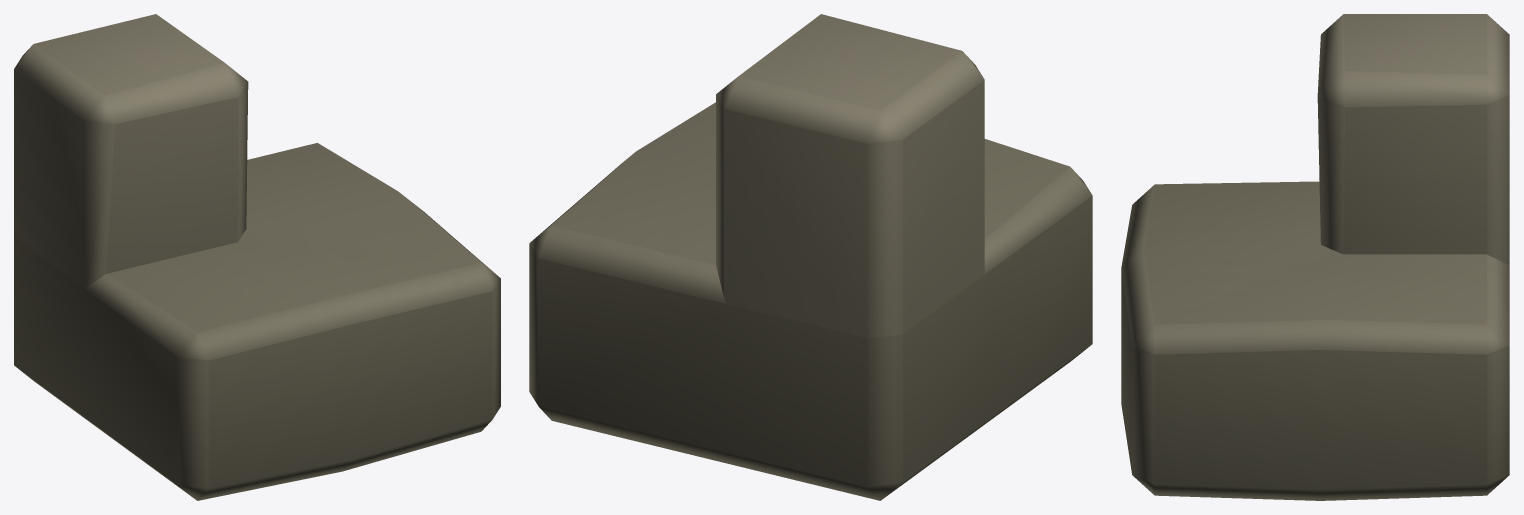
File: orc_stair_corner_conv_shade_5.fbx
3 renders of one model, left to right at view 1: azimuth 30°, elevation 25°; view 2: azimuth 150°, elevation 25°; view 3: azimuth 270°, elevation 25°, orthographic. The views are drawn at different scales.
Visible parts, largest first — view 1: orc_stair_corner_conv_shade_5; view 2: orc_stair_corner_conv_shade_5; view 3: orc_stair_corner_conv_shade_5.
Part boxes in pixels (x1,y1,x2,y2): orc_stair_corner_conv_shade_5: (14,14,500,500); orc_stair_corner_conv_shade_5: (529,14,1092,500); orc_stair_corner_conv_shade_5: (1121,14,1509,500).
Size of the model in its own units: 50.88 by 50.69 by 51.43.
